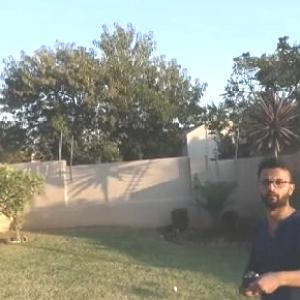follow: (237, 148, 300, 299)
